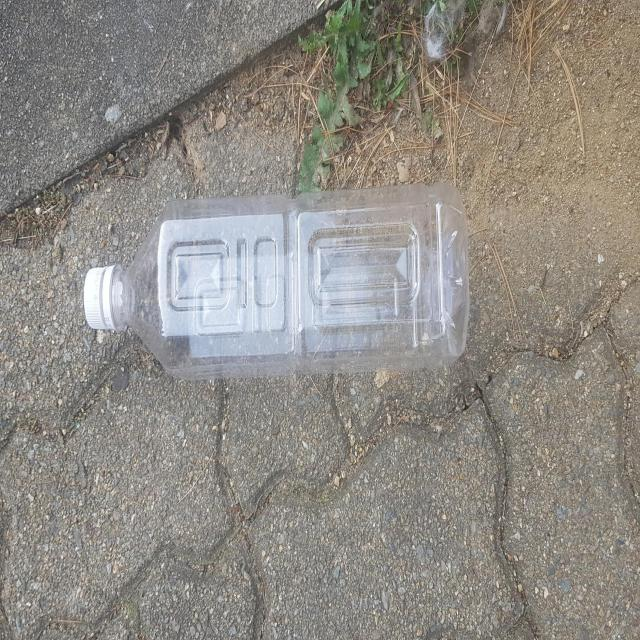plastic: (83, 183, 470, 378)
